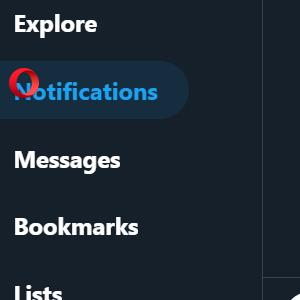opera: (9, 68, 39, 98)
